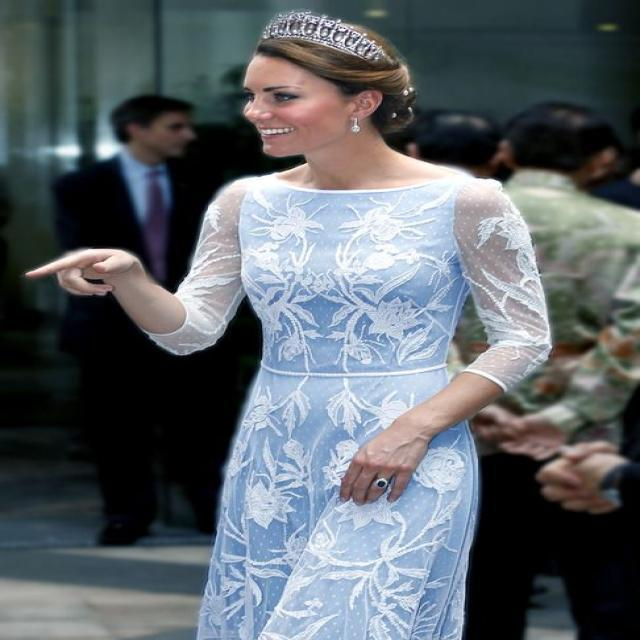Earring: (346, 110, 366, 139)
